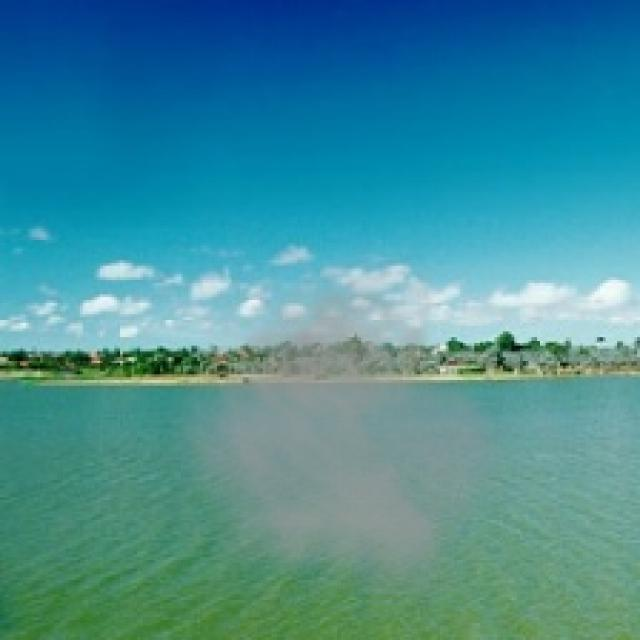Smoke: (160, 248, 526, 594)
